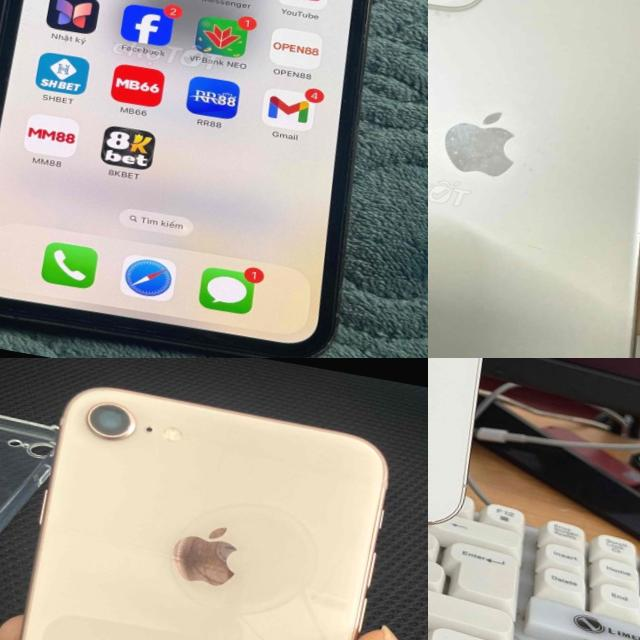gen_11: (428, 0, 640, 358)
gen_12_13: (428, 358, 539, 543)
gen_7_8: (0, 365, 406, 640)
gen_x_xs: (0, 0, 428, 358)
